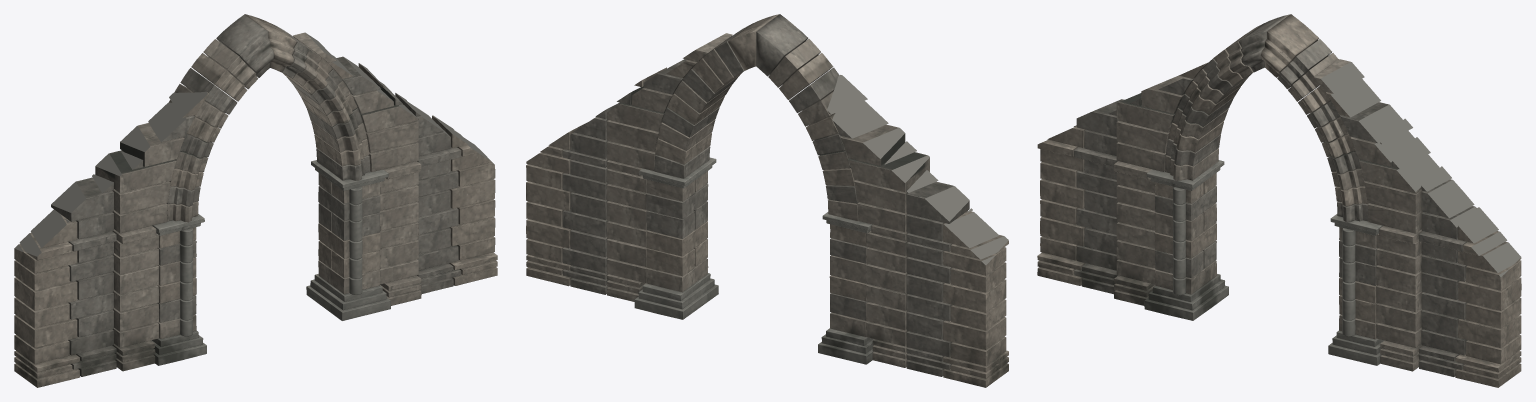
File: portal-composition-v6-parts.glb
The picture shows the model from 3 angles, left to right: view 1: azimuth 30°, elevation 25°; view 2: azimuth 150°, elevation 25°; view 3: azimuth 330°, elevation 25°; orthographic projection.
Parts seen in each view (by area): view 1: Portal_LoweredOuterWings.003; view 2: Portal_LoweredOuterWings.003; view 3: Portal_LoweredOuterWings.003.
Part boxes in pixels (bbox=[...]): Portal_LoweredOuterWings.003: bbox=[14, 14, 497, 387]; Portal_LoweredOuterWings.003: bbox=[526, 14, 1008, 387]; Portal_LoweredOuterWings.003: bbox=[1037, 14, 1521, 387].
Bounding box in the file's own units: 9.58 × 5.99 × 1.29.
Materials: 2 (1 with a texture image).
